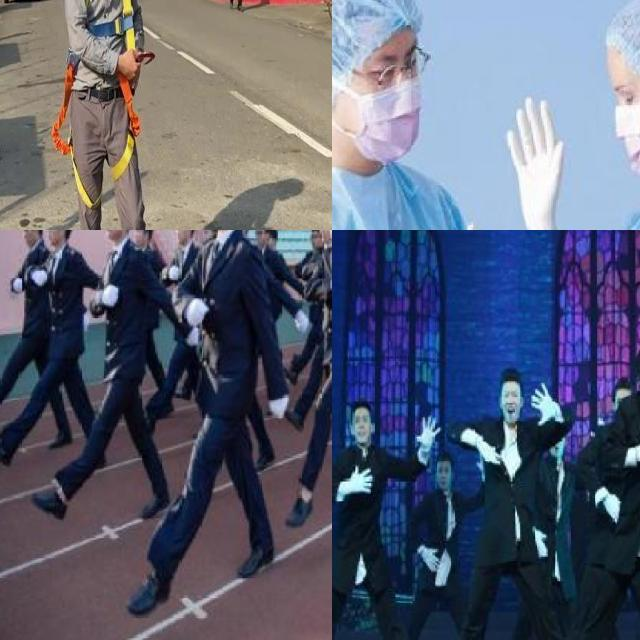Harness: (52, 57, 101, 210), (112, 74, 142, 182), (81, 0, 138, 50)
face_mask: (332, 33, 436, 153), (593, 62, 640, 187)
face_nomask: (498, 383, 524, 432), (351, 412, 372, 448), (436, 468, 457, 497)
glasses: (364, 46, 434, 90)
hand_glove: (502, 91, 565, 230), (530, 380, 556, 426), (184, 290, 209, 326), (416, 415, 440, 451), (343, 463, 372, 491), (474, 439, 502, 466), (603, 491, 622, 526), (98, 282, 121, 308), (422, 546, 442, 574), (270, 391, 289, 418), (30, 264, 47, 288), (295, 308, 309, 334), (185, 325, 202, 346), (12, 275, 26, 294), (170, 262, 181, 276)
head_nohelmet: (332, 0, 437, 54), (579, 0, 640, 73), (497, 368, 526, 389), (434, 450, 460, 472), (628, 344, 640, 372), (352, 403, 376, 417)
person: (332, 0, 516, 230), (192, 230, 295, 598), (493, 0, 640, 230), (457, 378, 571, 640), (88, 230, 176, 538), (332, 400, 443, 640), (28, 230, 96, 468), (595, 347, 640, 640), (299, 230, 332, 530)
shoes: (121, 564, 176, 622), (233, 542, 284, 577), (27, 489, 72, 525), (276, 491, 316, 529), (139, 490, 174, 518), (42, 426, 78, 448), (0, 437, 18, 473)
